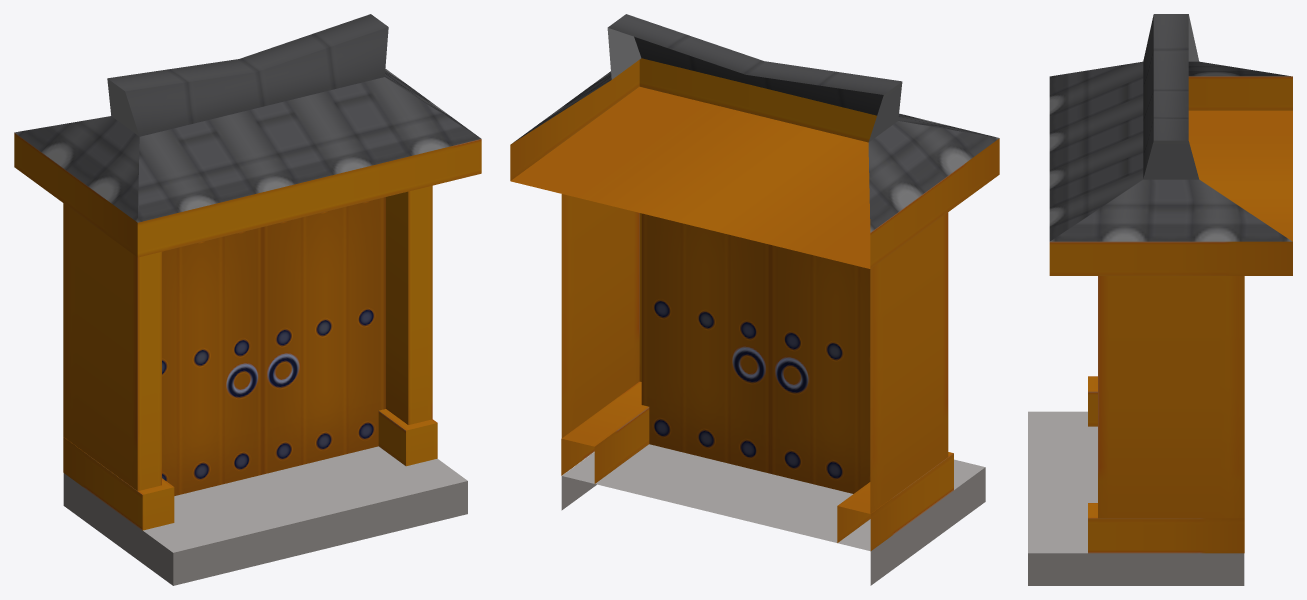
File: Landmark_Bukchon_Fence_01.fbx
3 renders of one model, left to right at view 1: azimuth 30°, elevation 25°; view 2: azimuth 150°, elevation 25°; view 3: azimuth 270°, elevation 25°, orthographic. The views are drawn at different scales.
Visible parts, largest first — view 1: Landmark_Bukchon_Fence_01; view 2: Landmark_Bukchon_Fence_01; view 3: Landmark_Bukchon_Fence_01.
Part boxes in pixels (x1=…): Landmark_Bukchon_Fence_01: x1=14, y1=14, x2=481, y2=585; Landmark_Bukchon_Fence_01: x1=510, y1=14, x2=999, y2=585; Landmark_Bukchon_Fence_01: x1=1028, y1=14, x2=1292, y2=585.
Bounding box in the file's own units: 496 × 612 × 335.
